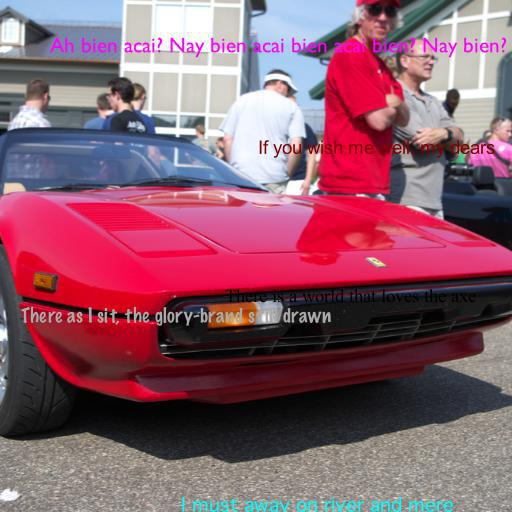Arial: (257, 140, 495, 158)
Geneva: (180, 496, 454, 512)
Gill Sans: (49, 37, 507, 58)
Marker Felt: (20, 306, 332, 326)
Times New Roman: (224, 289, 476, 303)
